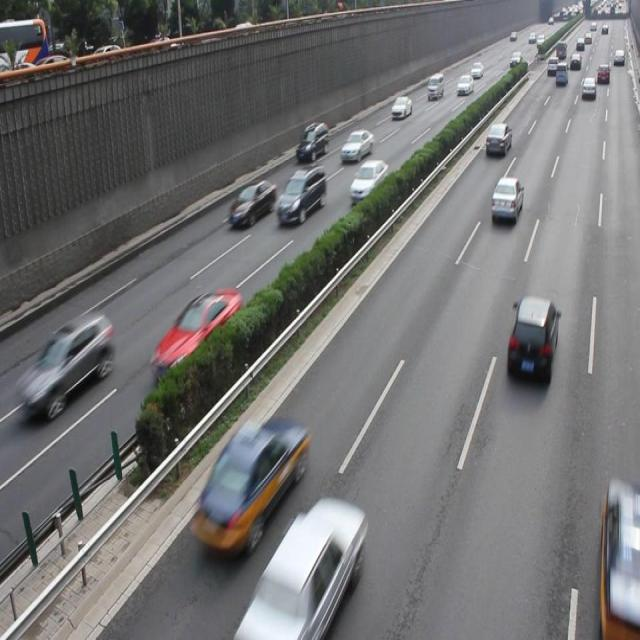car: (244, 495, 365, 640), (191, 416, 306, 552), (20, 311, 114, 413), (152, 287, 242, 379), (597, 480, 640, 640), (504, 294, 557, 384), (275, 164, 326, 222), (228, 176, 275, 228), (488, 174, 522, 224), (348, 159, 387, 201)
